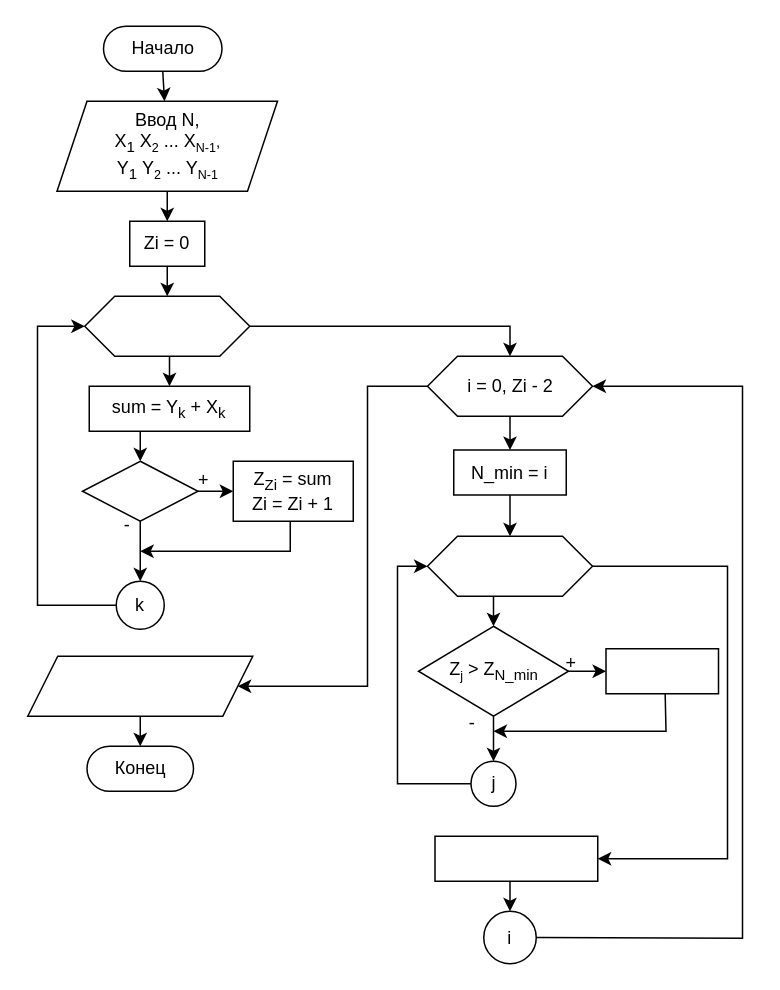
The diagram is 780 pixels wide and 990 high, and some of its shapes have lost their labels. Here are the shapes that lost their labels. From the top down, the centre of each, then its label:
At (166,325): "k = 0, N - 1".
At (139,490): "sum < 0".
At (509,565): "j = i + 1, Zi - 1".
At (139,685): "Вывод Z 1 Z 2 ... Z N-1".
At (661,670): "N_min = j".
At (516,858): "Z i ↔ Z N_min".
